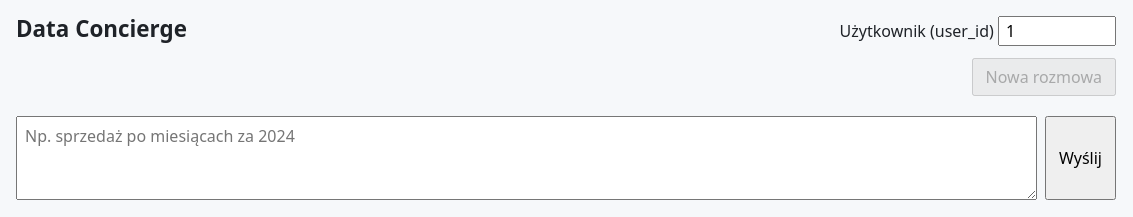
it: App › blocks sending for the user id  with a hint
Clear the field labelled "Użytkownik (user_id)" at x=1057, y=31, box [998, 16, 1116, 46]
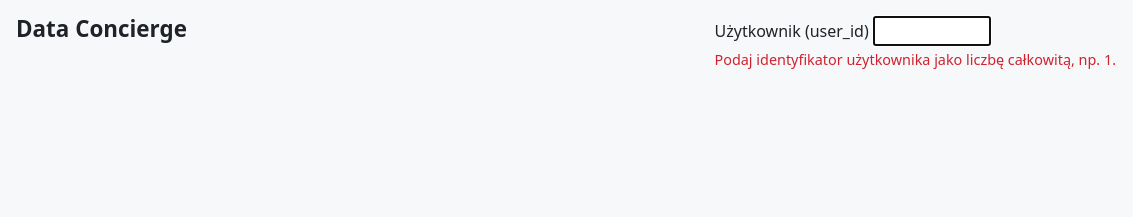
expect the message shows "liczbę całkowitą": met, box [714, 50, 1116, 69]
